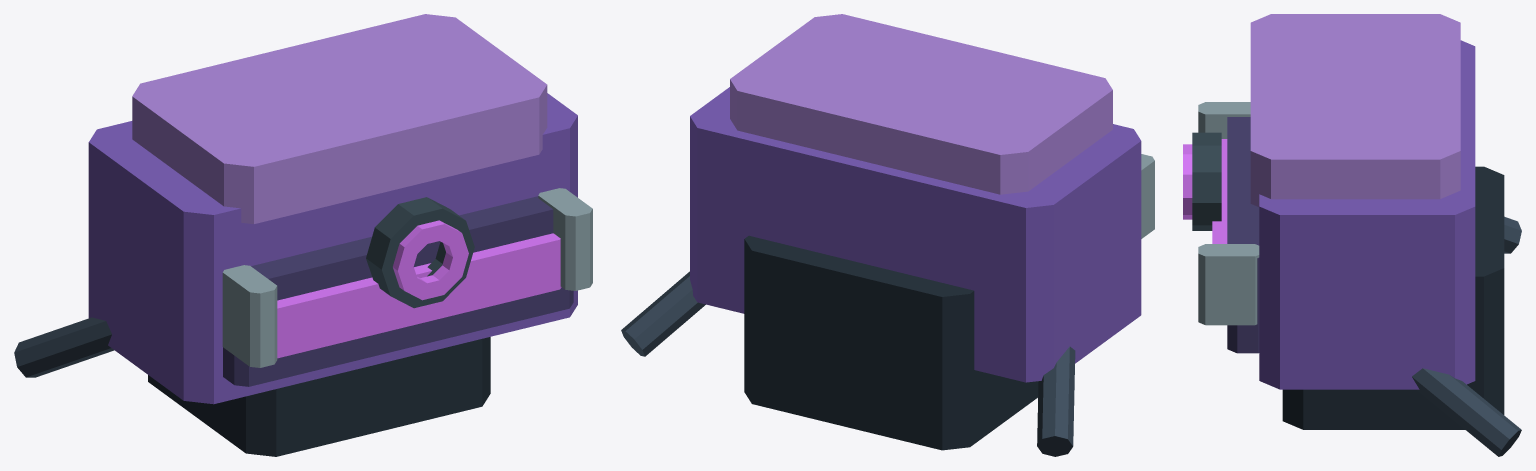
The model's file is enemy_tank_head.obj.
The picture shows the model from 3 angles, left to right: view 1: azimuth 30°, elevation 25°; view 2: azimuth 150°, elevation 25°; view 3: azimuth 270°, elevation 25°; orthographic projection. The views are drawn at different scales.
Bounding box in the file's own units: 0.8895 × 0.545 × 0.581.
